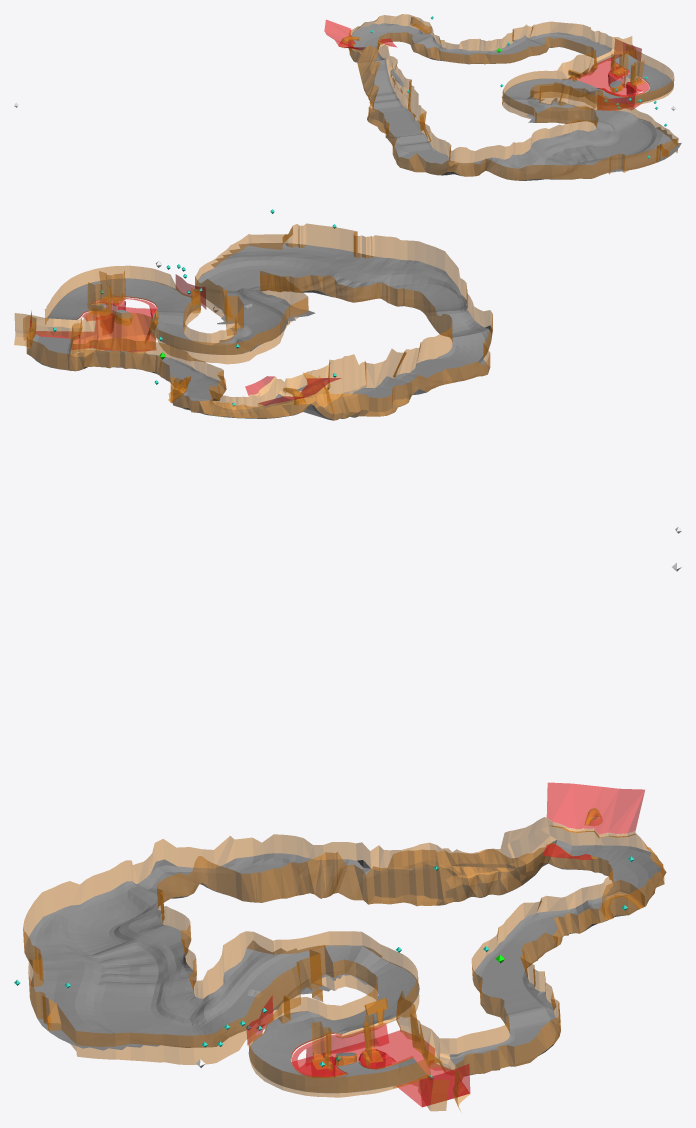
Rendered from Gorge(Complete).obj.
The picture shows the model from 3 angles, top to bottom: view 1: azimuth 30°, elevation 25°; view 2: azimuth 150°, elevation 25°; view 3: azimuth 270°, elevation 25°; orthographic projection. The views are drawn at different scales.
Parts seen in each view (by area): view 1: COL_wall_01, COL_hardsnowtrack, COL_powdersnowtrack_01, COL_groundreset03, COL_groundreset01, COL_icetrack01; view 2: COL_wall_01, COL_hardsnowtrack, COL_powdersnowtrack_01, COL_groundreset01, COL_icetrack01, COL_groundreset03; view 3: COL_wall_01, COL_hardsnowtrack, COL_powdersnowtrack_01, COL_groundreset03, COL_groundreset01, COL_icetrack01, COL_groundreset02.
Boxes of the visible parts, x1,y1,x2,y2 form: COL_wall_01: (339,14,678,180); COL_hardsnowtrack: (351,26,673,180); COL_powdersnowtrack_01: (348,23,681,180); COL_groundreset03: (324,19,641,110); COL_groundreset01: (568,57,648,109); COL_icetrack01: (375,111,443,166); COL_wall_01: (14,223,492,420); COL_hardsnowtrack: (34,268,485,419); COL_powdersnowtrack_01: (27,243,492,420); COL_groundreset01: (36,298,156,351); COL_icetrack01: (337,361,466,414); COL_groundreset03: (30,274,341,405); COL_wall_01: (23,808,666,1111); COL_hardsnowtrack: (67,843,658,1093); COL_powdersnowtrack_01: (24,839,666,1075); COL_groundreset03: (246,782,644,1107); COL_groundreset01: (291,1030,469,1106); COL_icetrack01: (238,871,453,902); COL_groundreset02: (291,1023,412,1076).
Size of the model in its own units: 656 by 72.88 by 391.
